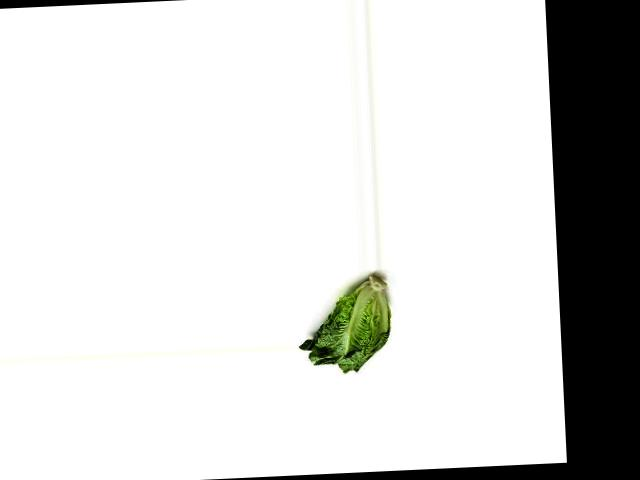lettuce: (297, 277, 396, 379)
